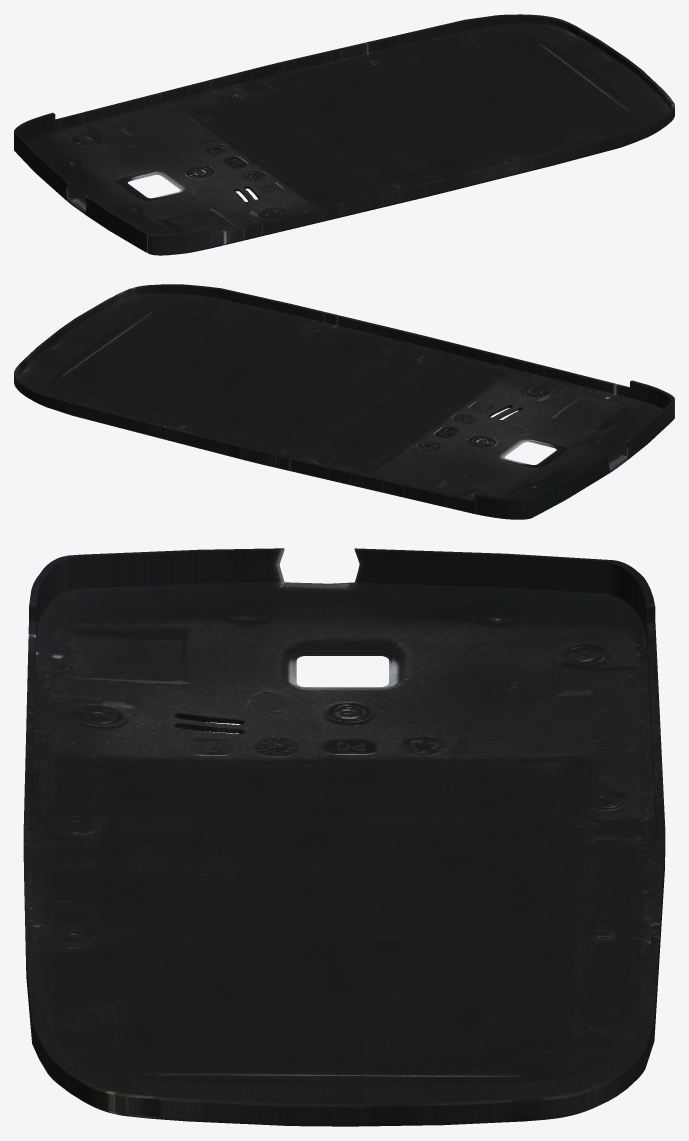
File: Phone 01 Layer 07.obj
3 views of the same model, one above another, from view 1: azimuth 30°, elevation 25°; view 2: azimuth 150°, elevation 25°; view 3: azimuth 270°, elevation 25° (orthographic). The views are drawn at different scales.
Bounding box in the file's own units: 1131 × 41.78 × 569.
1 material, 1 textured.
